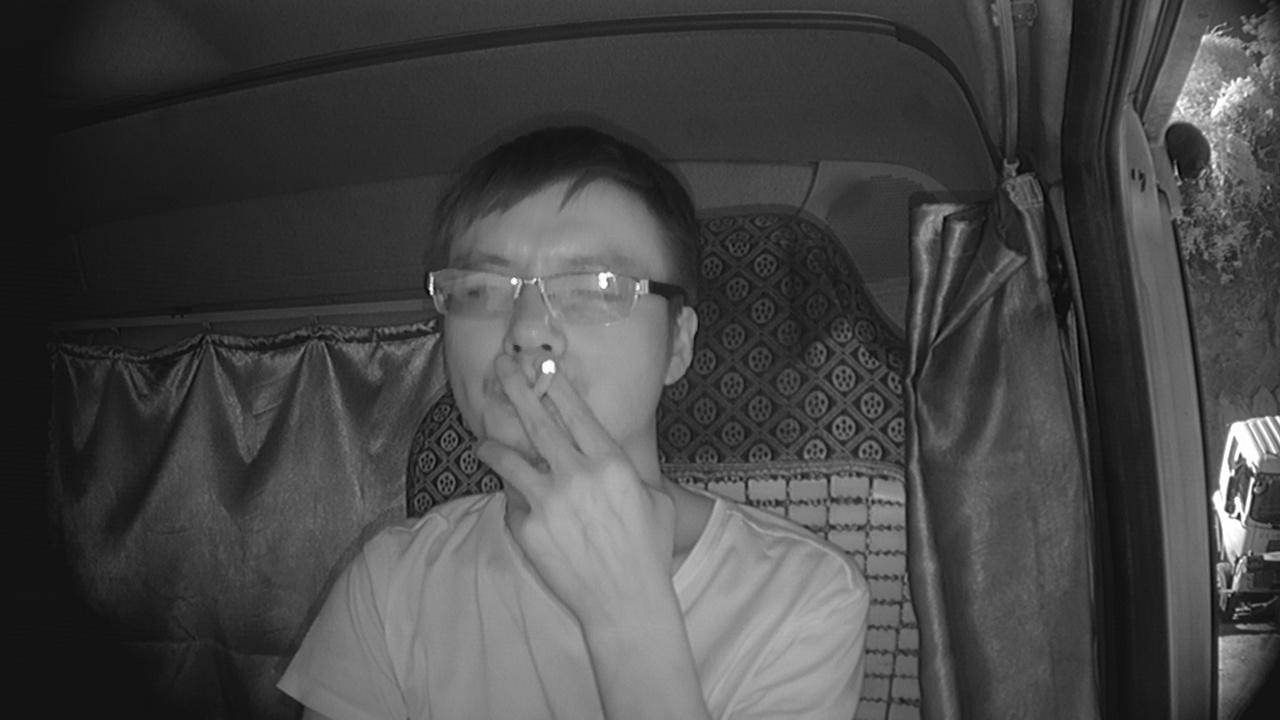hand: (476, 347, 642, 570)
